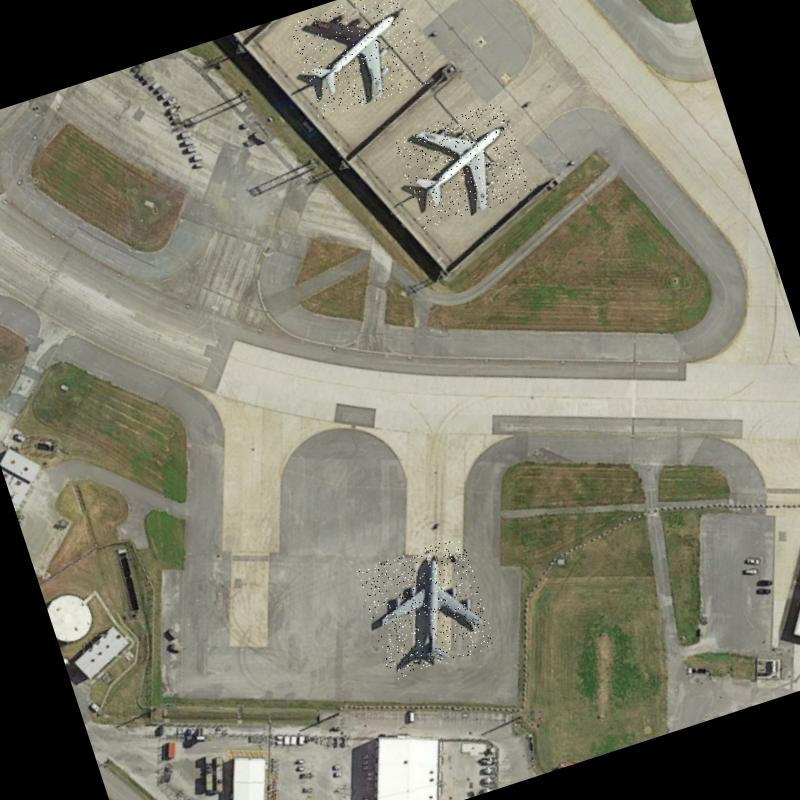A11: (392, 100, 533, 230), (285, 0, 433, 120)
A14: (355, 536, 498, 682)
